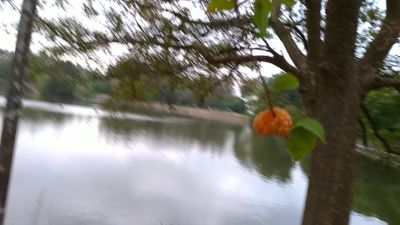eggs: (252, 105, 295, 137)
